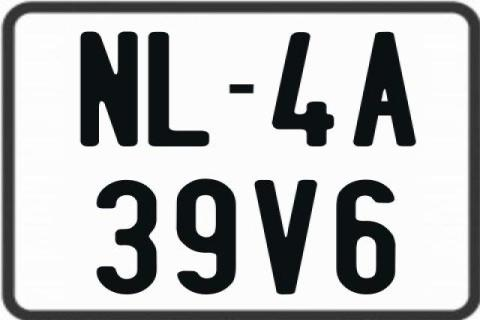0: (96, 179, 162, 299), (272, 32, 339, 150), (334, 179, 398, 297), (175, 178, 236, 296)
A: (351, 31, 420, 149)
L: (145, 31, 209, 145)
N: (79, 31, 140, 148)
V: (254, 180, 320, 296)
